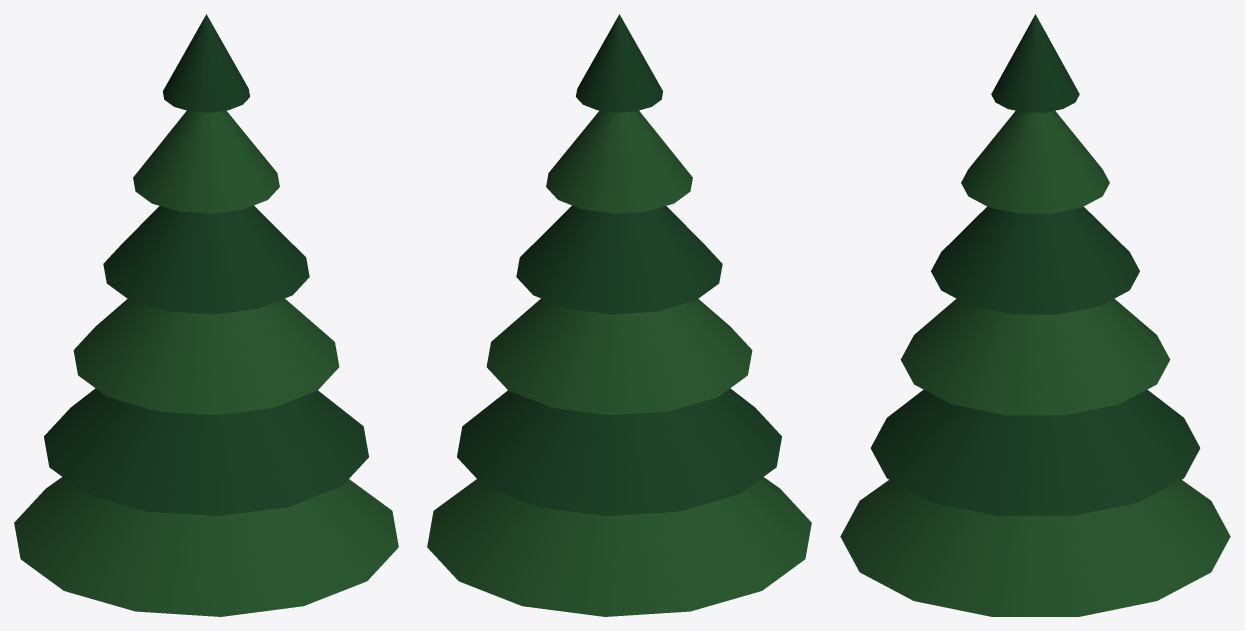
File: realistic_pine_tree.gltf
3 views of the same model, side by side, from view 1: azimuth 30°, elevation 25°; view 2: azimuth 150°, elevation 25°; view 3: azimuth 270°, elevation 25° (orthographic).
Visible parts, largest first — view 1: needle_layer_00, needle_layer_01, needle_layer_02, needle_layer_03, needle_layer_04, needle_layer_05; view 2: needle_layer_00, needle_layer_01, needle_layer_02, needle_layer_03, needle_layer_04, needle_layer_05; view 3: needle_layer_00, needle_layer_01, needle_layer_02, needle_layer_03, needle_layer_04, needle_layer_05.
Boxes of the visible parts, bbox=[...] form: needle_layer_00: bbox=[14, 477, 398, 616]; needle_layer_01: bbox=[44, 388, 368, 515]; needle_layer_02: bbox=[73, 298, 339, 415]; needle_layer_03: bbox=[103, 205, 309, 314]; needle_layer_04: bbox=[133, 110, 279, 213]; needle_layer_05: bbox=[163, 14, 249, 112]; needle_layer_00: bbox=[427, 477, 811, 616]; needle_layer_01: bbox=[457, 388, 781, 515]; needle_layer_02: bbox=[486, 298, 752, 415]; needle_layer_03: bbox=[516, 205, 722, 314]; needle_layer_04: bbox=[546, 110, 692, 213]; needle_layer_05: bbox=[576, 14, 662, 112]; needle_layer_00: bbox=[840, 479, 1230, 616]; needle_layer_01: bbox=[870, 389, 1200, 515]; needle_layer_02: bbox=[900, 298, 1170, 415]; needle_layer_03: bbox=[931, 206, 1139, 314]; needle_layer_04: bbox=[961, 110, 1109, 213]; needle_layer_05: bbox=[991, 14, 1079, 112].
Size of the model in its own units: 4.29 by 7.1 by 4.4.
